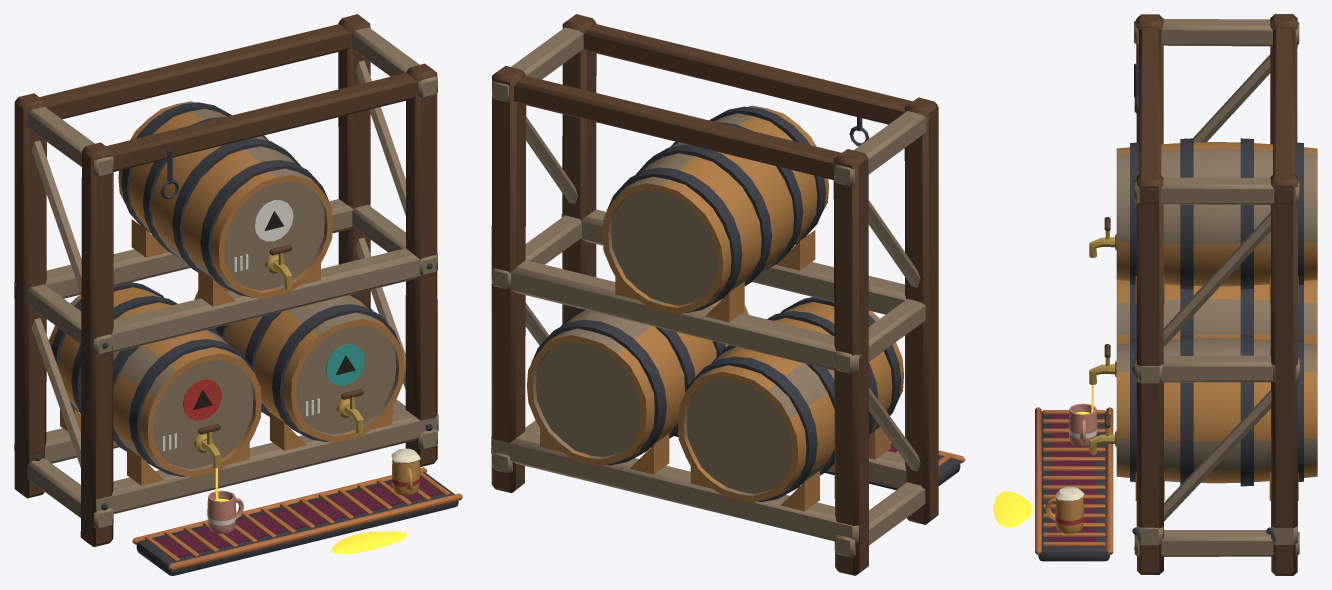
File: deco_keg_rack.fbx
The picture shows the model from 3 angles, left to right: view 1: azimuth 30°, elevation 25°; view 2: azimuth 150°, elevation 25°; view 3: azimuth 270°, elevation 25°; orthographic projection. The views are drawn at different scales.
Visible parts, largest first — view 1: KegRack_Rack, KegRack_KegC, KegRack_KegA, KegRack_KegB, KegRack_Tray, KegRack_TapB, KegRack_TapA, KegRack_TapC; view 2: KegRack_Rack, KegRack_KegC, KegRack_KegA, KegRack_KegB, KegRack_Tray; view 3: KegRack_Rack, KegRack_KegC, KegRack_KegB, KegRack_Tray, KegRack_KegA, KegRack_TapB, KegRack_TapA, KegRack_TapC.
Boxes of the visible parts, x1,y1,x2,y2 form: KegRack_Rack: (14,14,438,546); KegRack_KegC: (118,101,333,299); KegRack_KegA: (48,282,261,477); KegRack_KegB: (194,281,404,442); KegRack_Tray: (132,448,462,575); KegRack_TapB: (336,389,363,433); KegRack_TapA: (193,424,220,468); KegRack_TapC: (265,244,292,289); KegRack_Rack: (491,14,938,575); KegRack_KegC: (602,105,828,314); KegRack_KegA: (678,297,903,502); KegRack_KegB: (527,296,748,465); KegRack_Tray: (674,433,964,489); KegRack_Rack: (1132,14,1299,575); KegRack_KegC: (1116,138,1317,289); KegRack_KegB: (1116,335,1317,486); KegRack_Tray: (993,385,1113,561); KegRack_KegA: (1116,280,1317,344); KegRack_TapB: (1089,413,1116,454); KegRack_TapA: (1089,344,1116,384); KegRack_TapC: (1089,217,1116,257).
Bounding box in the file's own units: 181 × 196 × 145.
